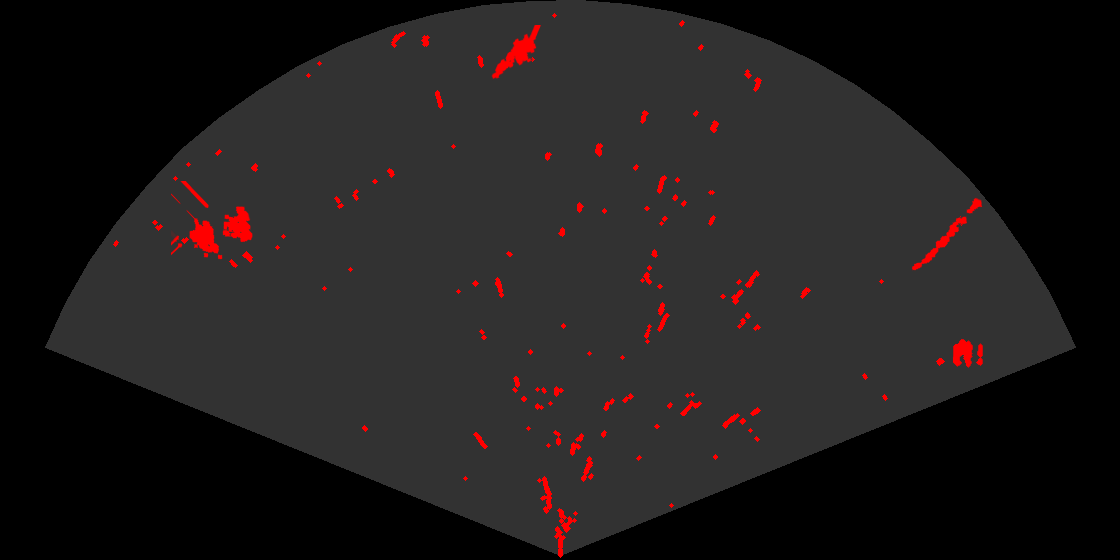ball: (951, 337, 984, 369)
cage: (171, 181, 254, 261)
chain: (910, 196, 984, 272)
frogman: (490, 25, 542, 81)
